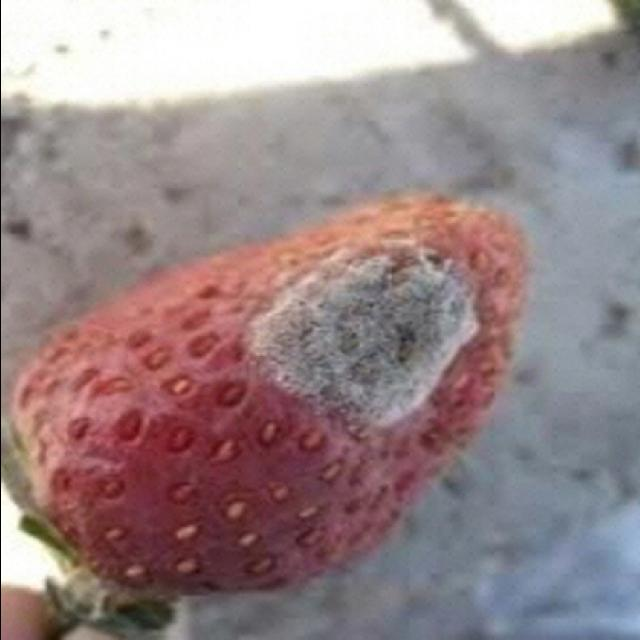Gray Mold: (237, 236, 494, 444)
